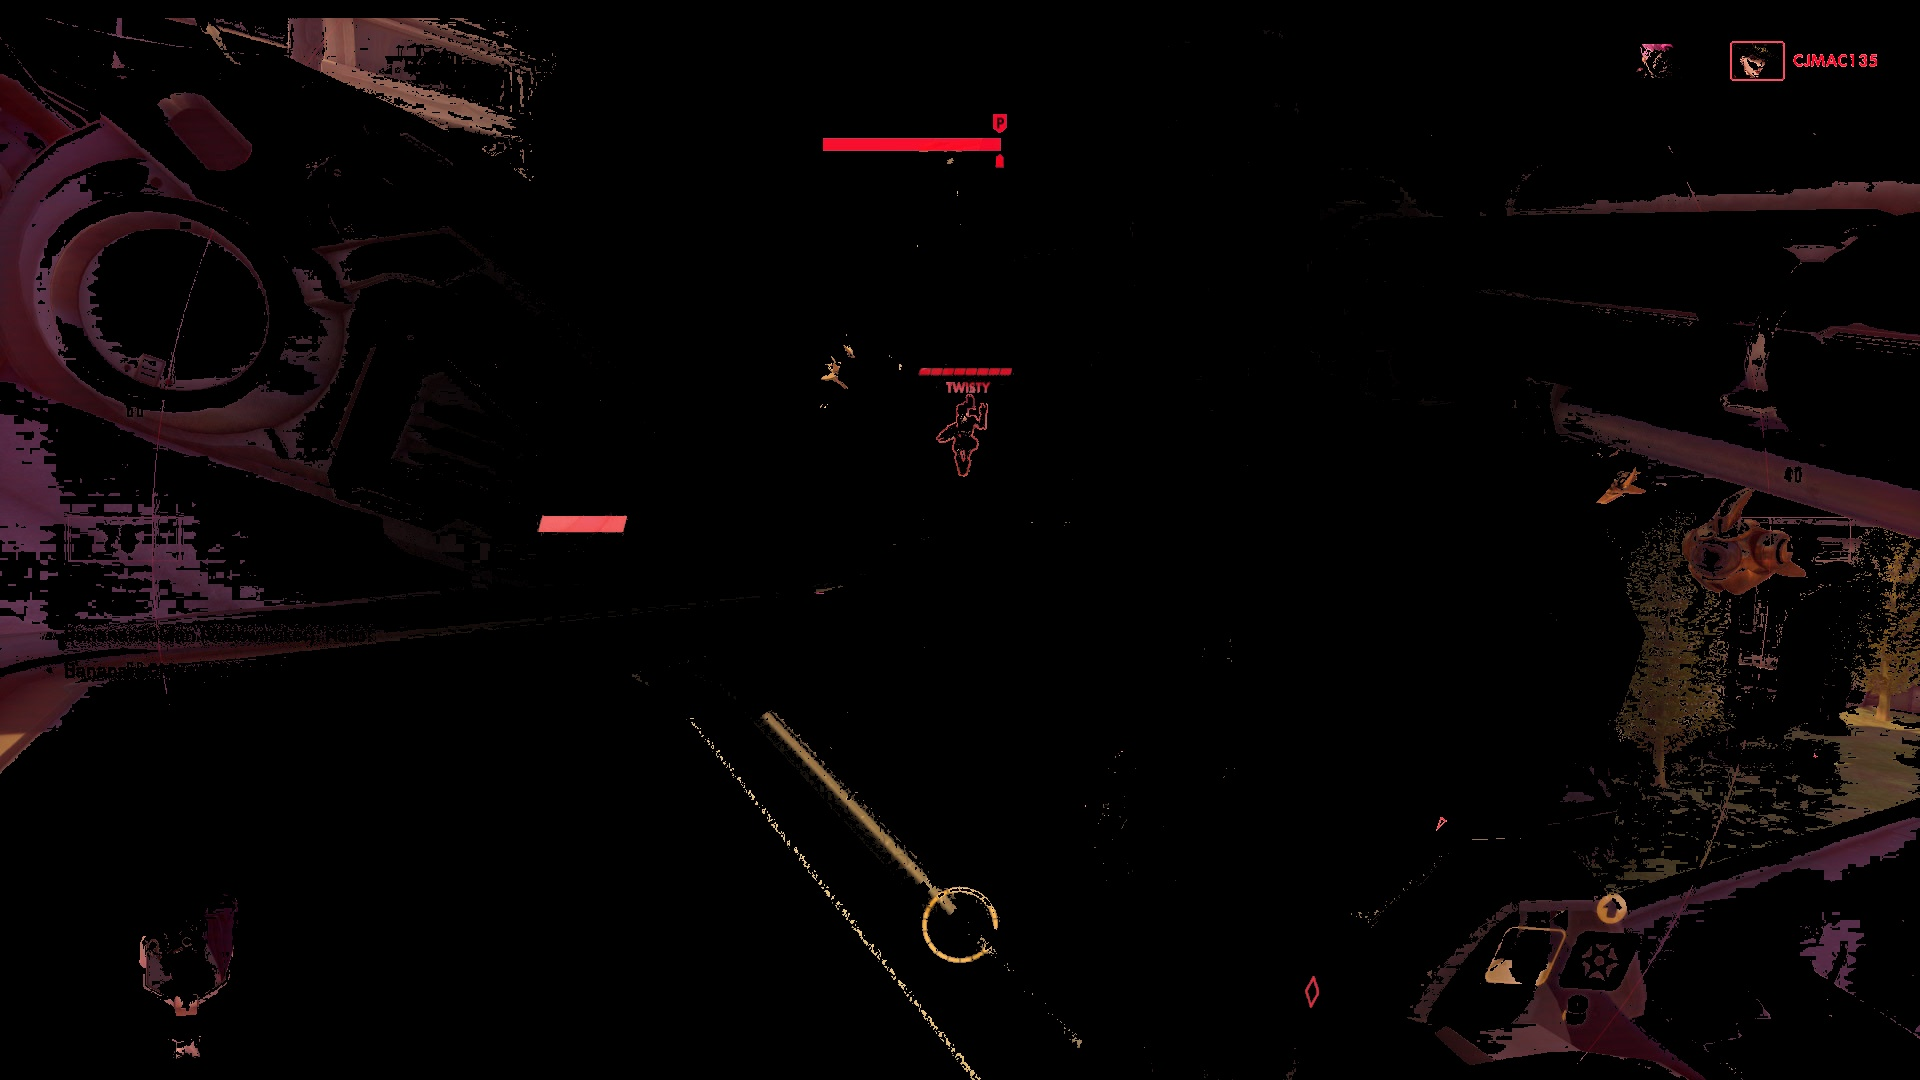widowmaker: (934, 393, 989, 481)
